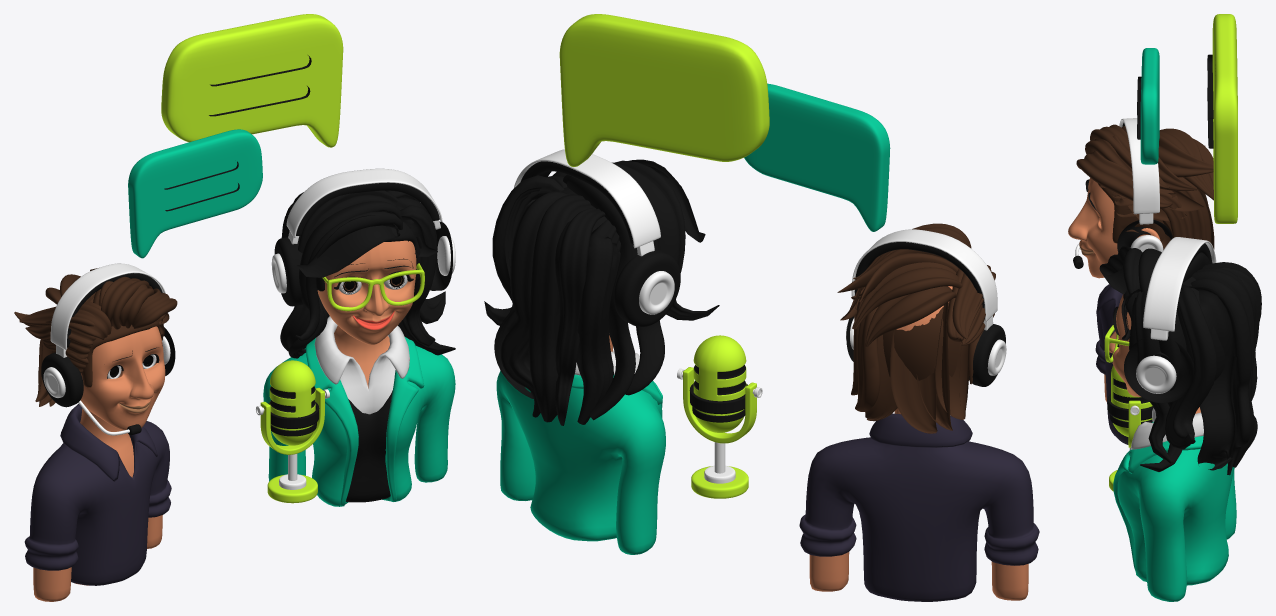
The model's file is guest-interview-3d-animated-icon-979202238590.glb.
3 renders of one model, left to right at view 1: azimuth 30°, elevation 25°; view 2: azimuth 150°, elevation 25°; view 3: azimuth 270°, elevation 25°, orthographic. The views are drawn at different scales.
Visible parts, largest first — view 1: Chat Bubble.001, Shirt.001, Blazer, Hair, Chat Bubble, Hair.035, Headphone, Head 2.001, Face, Headphone.001, Shirt, Sweater (+8 smaller); view 2: Hair, Shirt.001, Chat Bubble.001, Blazer, Hair.035, Chat Bubble, Headphone, Headphone.001, Body, Base, Body.002, List (+1 smaller); view 3: Hair, Blazer, Hair.035, Headphone, Chat Bubble.001, Headphone.001, Head 2.001, Chat Bubble, Shirt.001, Face, Body, Shirt (+4 smaller).
Boxes of the visible parts, left/top/right/bottom form: Chat Bubble.001: left=161, top=14, right=343, bottom=147; Shirt.001: left=24, top=404, right=171, bottom=585; Blazer: left=263, top=337, right=455, bottom=506; Hair: left=280, top=190, right=455, bottom=358; Chat Bubble: left=128, top=129, right=262, bottom=258; Hair.035: left=14, top=268, right=177, bottom=406; Headphone: left=271, top=168, right=455, bottom=306; Head 2.001: left=80, top=326, right=165, bottom=430; Face: left=317, top=240, right=416, bottom=344; Headphone.001: left=41, top=263, right=175, bottom=407; Shirt: left=314, top=316, right=409, bottom=414; Sweater: left=346, top=390, right=392, bottom=502; Hair: left=484, top=159, right=719, bottom=425; Shirt.001: left=799, top=413, right=1039, bottom=601; Chat Bubble.001: left=559, top=14, right=769, bottom=166; Blazer: left=496, top=370, right=665, bottom=554; Hair.035: left=837, top=223, right=995, bottom=433; Chat Bubble: left=744, top=83, right=890, bottom=231; Headphone: left=513, top=149, right=680, bottom=326; Headphone.001: left=846, top=229, right=1006, bottom=386; Body: left=693, top=335, right=746, bottom=432; Base: left=683, top=367, right=756, bottom=498; Body.002: left=809, top=408, right=1028, bottom=600; List: left=689, top=383, right=747, bottom=422; Hair: left=1099, top=246, right=1261, bottom=475; Blazer: left=1113, top=422, right=1236, bottom=601; Hair.035: left=1076, top=124, right=1214, bottom=249; Headphone: left=1124, top=237, right=1216, bottom=403; Chat Bubble.001: left=1212, top=14, right=1237, bottom=223; Headphone.001: left=1117, top=118, right=1172, bottom=252; Head 2.001: left=1068, top=178, right=1160, bottom=278; Chat Bubble: left=1140, top=48, right=1159, bottom=164; Shirt.001: left=1095, top=284, right=1128, bottom=444; Face: left=1109, top=294, right=1140, bottom=396; Body: left=1111, top=365, right=1152, bottom=436; Shirt: left=1131, top=408, right=1203, bottom=449.
Bounding box in the file's own units: 5.64 × 5.71 × 2.06.
